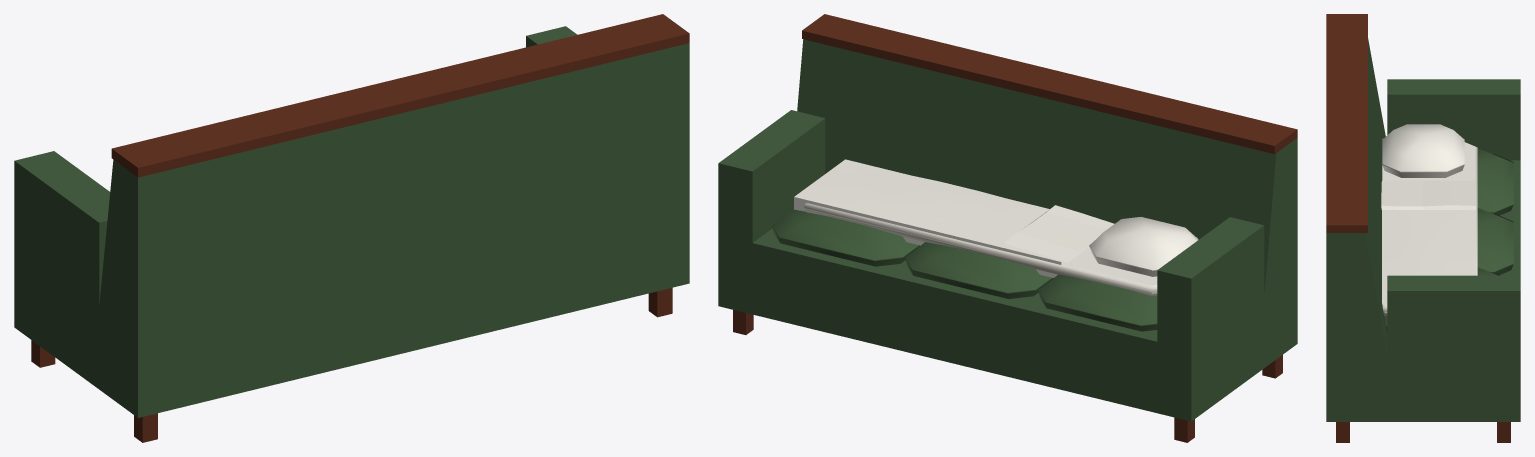
3 renders of one model, left to right at view 1: azimuth 30°, elevation 25°; view 2: azimuth 150°, elevation 25°; view 3: azimuth 270°, elevation 25°, orthographic. The views are drawn at different scales.
Parts seen in each view (by area): view 1: parametric-variant-sofa-1st-19cd15b13dff49d96654; view 2: parametric-variant-sofa-1st-19cd15b13dff49d96654; view 3: parametric-variant-sofa-1st-19cd15b13dff49d96654.
Boxes of the visible parts, box(x1,y1,x2,y2) form: parametric-variant-sofa-1st-19cd15b13dff49d96654: box(14, 14, 689, 442); parametric-variant-sofa-1st-19cd15b13dff49d96654: box(718, 14, 1297, 442); parametric-variant-sofa-1st-19cd15b13dff49d96654: box(1326, 14, 1520, 442).
Bounding box in the file's own units: 1.8 × 0.88 × 0.7.
